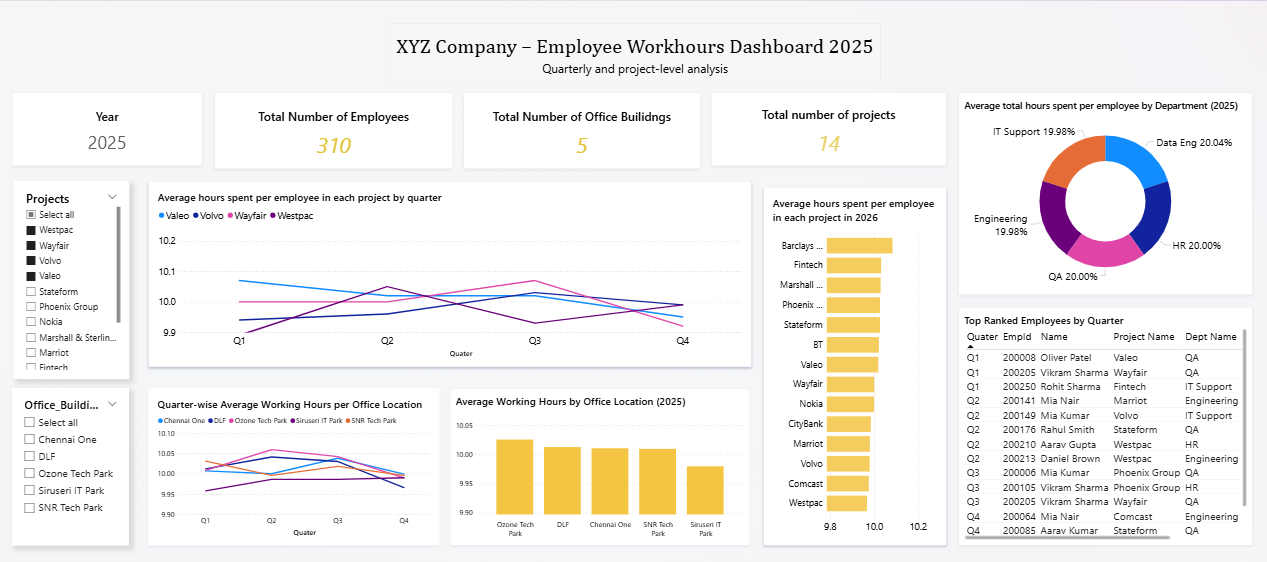

The dashboard page shown, as its layout file describes it:
{"tool":"powerbi","page":{"name":"Page 1","canvas":[2850,1250],"ordinal":0},"visuals":[{"type":"lineChart","title":"Average hours spent per employee in each project by quarter","fields":{"Category":["Avg hours per project with quarter.Quater"],"Series":["Avg hours per project with quarter.Project"],"Y":["Avg(Avg hours per project with quarter.Avg Hours of Employee)"]},"box":[343.3,400,1340,413.3],"z":0},{"type":"slicer","title":" Avg hours of employees per project in 2025","fields":{"Values":["Projects_Slicer.Proejcts"]},"box":[42.5,400,257.5,440],"z":1000},{"type":"clusteredBarChart","title":"Average hours spent per employee in each project in 2026","fields":{"Category":["2026-Avg hours of emp per proj.Proejcts"],"Y":["Avg(2026-Avg hours of emp per proj.Avg hours of employees)"]},"box":[1710,413.3,406.7,796.7],"z":2000},{"type":"lineChart","title":"Quarter‑wise Average Working Hours per Office Location","fields":{"Category":["Avg hours of emp per build per quater.Quater"],"Y":["Avg(Avg hours of emp per build per quater.Avg hours of Employees)"],"Series":["Avg hours of emp per build per quater.Office"]},"box":[343.3,860,646.7,350],"z":3000},{"type":"columnChart","title":"Average Working Hours by Office Location (2025)","fields":{"Category":["2026-Avg hours of emp per loc.Office_Building"],"Y":["Avg(2026-Avg hours of emp per loc.Average hours of Employees)"]},"box":[1013.3,860,666.7,350],"z":4000},{"type":"slicer","fields":{"Values":["Table 2.Office_Building"]},"box":[40,860,260,350],"z":5000},{"type":"card","fields":{"Values":["2026-Avg hours of emp per loc.Manual KPI Text"]},"box":[490,203.3,530,170],"z":6000},{"type":"card","fields":{"Values":["2026-Avg hours of emp per loc.10"]},"box":[1593.3,203.3,523.3,163.3],"z":7000},{"type":"card","fields":{"Values":["2026-Avg hours of emp per loc.5"]},"box":[1043.3,203.3,526.7,170],"z":8000},{"type":"card","fields":{"Values":["2026-Avg hours of emp per loc.2025"]},"box":[40,203.3,423.3,163.3],"z":9000},{"type":"card","fields":{"Values":["2026-Avg hours of emp per loc.Dashboard Title"]},"box":[630,43.3,1643.3,130],"z":10000},{"type":"donutChart","title":"Average total hours spent per employee by Department (2025)","fields":{"Category":["Avg per dept.Column1"],"Y":["Avg(Avg per dept.Column2)"]},"box":[2143.3,203.3,653.3,450],"z":11000},{"type":"tableEx","title":" Top Ranked Employees by Quarter","fields":{"Values":["Rankemp.Quater","Rankemp.EmpId","Rankemp.Name","Rankemp.Project Name","Rankemp.Dept Name","Rankemp.Average Hours","Rankemp.Rank"]},"box":[2143.3,680,653.3,530],"z":12000}]}

Visuals, with their boxes in screenshot pixels (x1, y1, x2, y2), scaled from the page's 2850x1250 canvas onto the 1267x562 screenshot:
"Average hours spent per employee in each project by quarter" lineChart: box=[153, 180, 748, 366]
" Avg hours of employees per project in 2025" slicer: box=[19, 180, 133, 378]
"Average hours spent per employee in each project in 2026" clusteredBarChart: box=[760, 186, 941, 544]
"Quarter‑wise Average Working Hours per Office Location" lineChart: box=[153, 387, 440, 544]
"Average Working Hours by Office Location (2025)" columnChart: box=[450, 387, 747, 544]
slicer - Table 2.Office_Building: box=[18, 387, 133, 544]
card - 2026-Avg hours of emp per loc.Manual KPI Text: box=[218, 91, 453, 168]
card - 2026-Avg hours of emp per loc.10: box=[708, 91, 941, 165]
card - 2026-Avg hours of emp per loc.5: box=[464, 91, 698, 168]
card - 2026-Avg hours of emp per loc.2025: box=[18, 91, 206, 165]
card - 2026-Avg hours of emp per loc.Dashboard Title: box=[280, 19, 1011, 78]
"Average total hours spent per employee by Department (2025)" donutChart: box=[953, 91, 1243, 294]
" Top Ranked Employees by Quarter" tableEx: box=[953, 306, 1243, 544]
